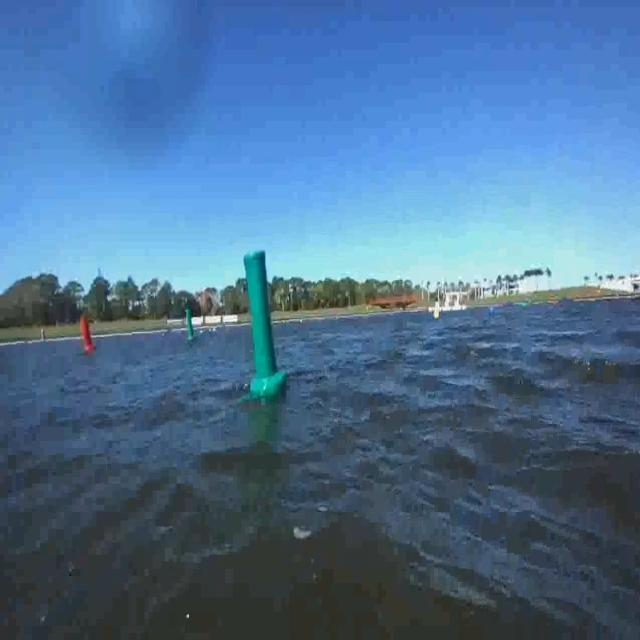green-column-buoy: (245, 246, 288, 403), (184, 306, 196, 341)
red-column-buoy: (78, 316, 95, 356)
yellow-buoy: (433, 309, 440, 322)
